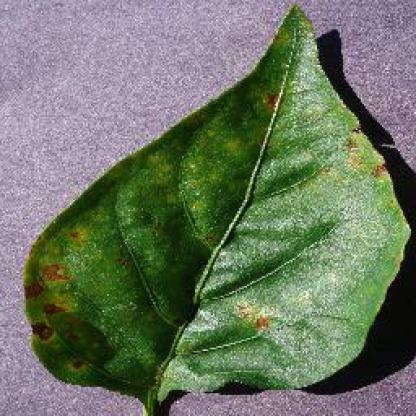bad leaf: (0, 12, 400, 415)
